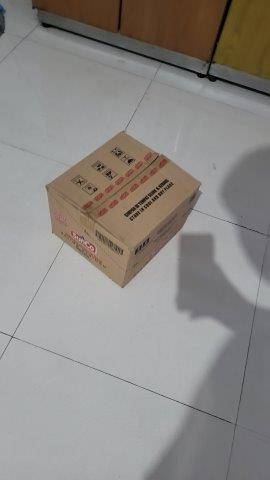kardus: (47, 131, 200, 287)
